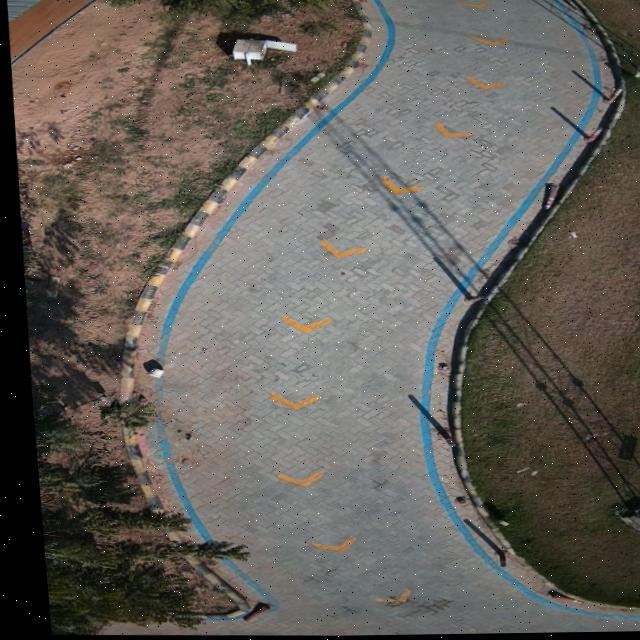No Car: (6, 0, 640, 636)
